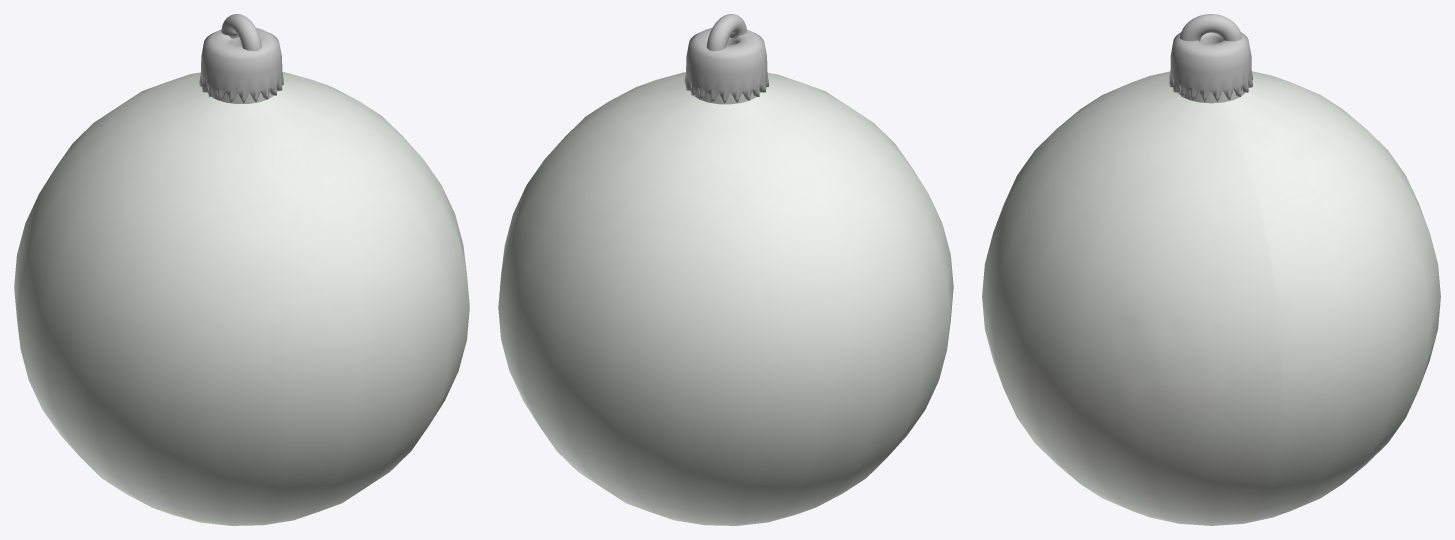
File: Focos.obj
3 views of the same model, side by side, from view 1: azimuth 30°, elevation 25°; view 2: azimuth 150°, elevation 25°; view 3: azimuth 270°, elevation 25° (orthographic).
Parts seen in each view (by area): view 1: Foco:Mesh; view 2: Foco:Mesh; view 3: Foco:Mesh.
Part boxes in pixels (x1,y1,x2,y2): Foco:Mesh: (14, 14, 469, 525); Foco:Mesh: (498, 14, 953, 525); Foco:Mesh: (982, 14, 1440, 525).
Size of the model in its own units: 13.51 by 15.9 by 13.51.
